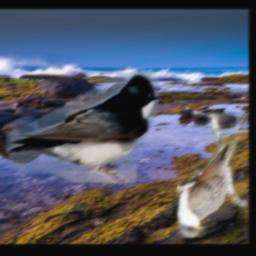Cuckoo: (178, 115, 249, 239)
Swallow: (7, 72, 160, 183)
